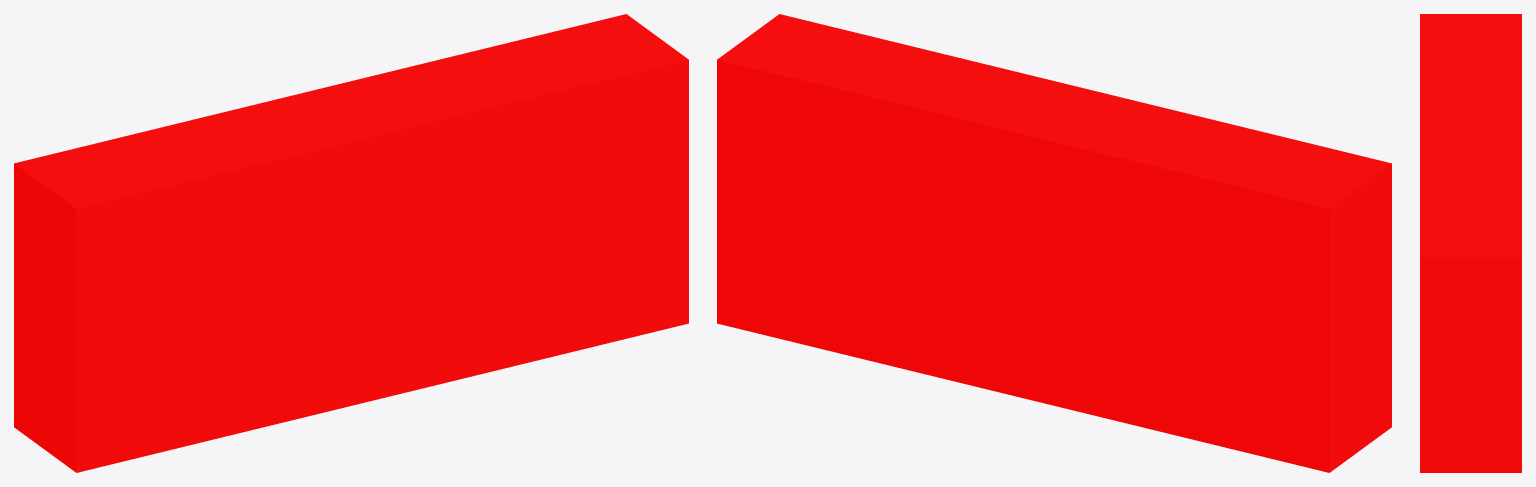
File: Items.fbx_Key_5.fbx
3 renders of one model, left to right at view 1: azimuth 30°, elevation 25°; view 2: azimuth 150°, elevation 25°; view 3: azimuth 270°, elevation 25°, orthographic. The views are drawn at different scales.
Parts seen in each view (by area): view 1: INK5; view 2: INK5; view 3: INK5.
Part boxes in pixels (<box>): INK5: <box>14,14,688,472</box>; INK5: <box>717,14,1391,472</box>; INK5: <box>1420,14,1521,472</box>.
Bounding box in the file's own units: 34 × 14 × 6.
